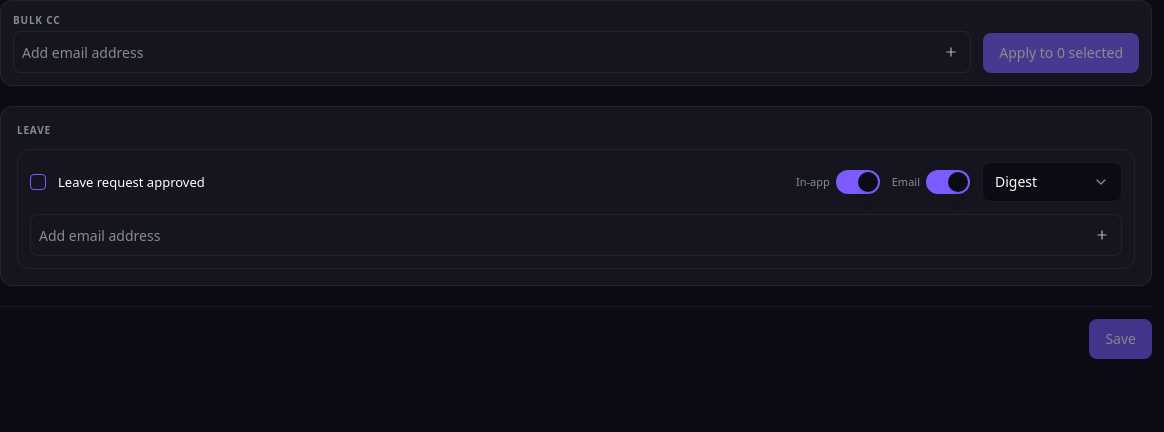
NotificationRoutingTab — digest/CC guard › restores the original digest lane when the CC is removed again
The width and height of the screenshot is (1164, 432).
Expected: the text "Leave request approved" is shown, [58,173,205,191]
Step 1. Type "hr@provintell.com" into the field with placeholder "Add email address" → [562, 235], box [39,221,1085,249]
Then press Enter
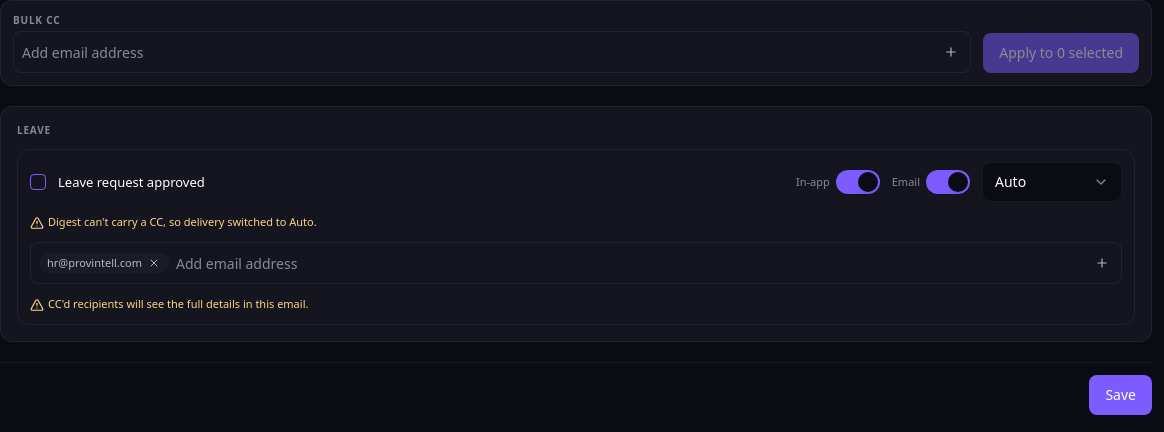
Now the text "Digest can't carry a CC, so delivery switched to Auto." is shown, box [48,214,317,230]
Now the dropdown named "delivery for" reads "Auto", box [982,162,1122,202]
Step 2. Click the button named "Remove hr@provintell.com" → [154, 263], box [146,255,162,271]
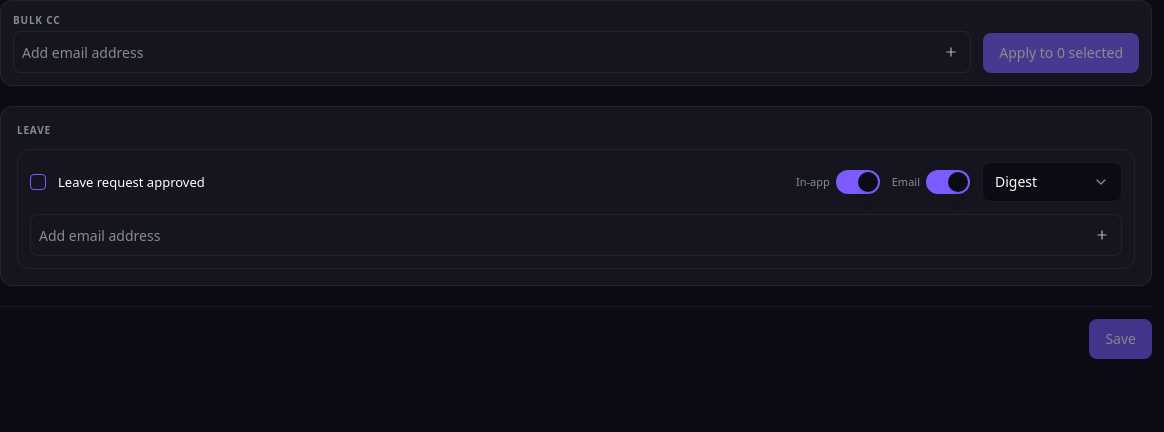
Now the text "switched to Auto" is gone
Now the dropdown named "delivery for" reads "Digest", box [982,162,1122,202]
Now the button "Save" is disabled, box [1089,319,1152,359]
